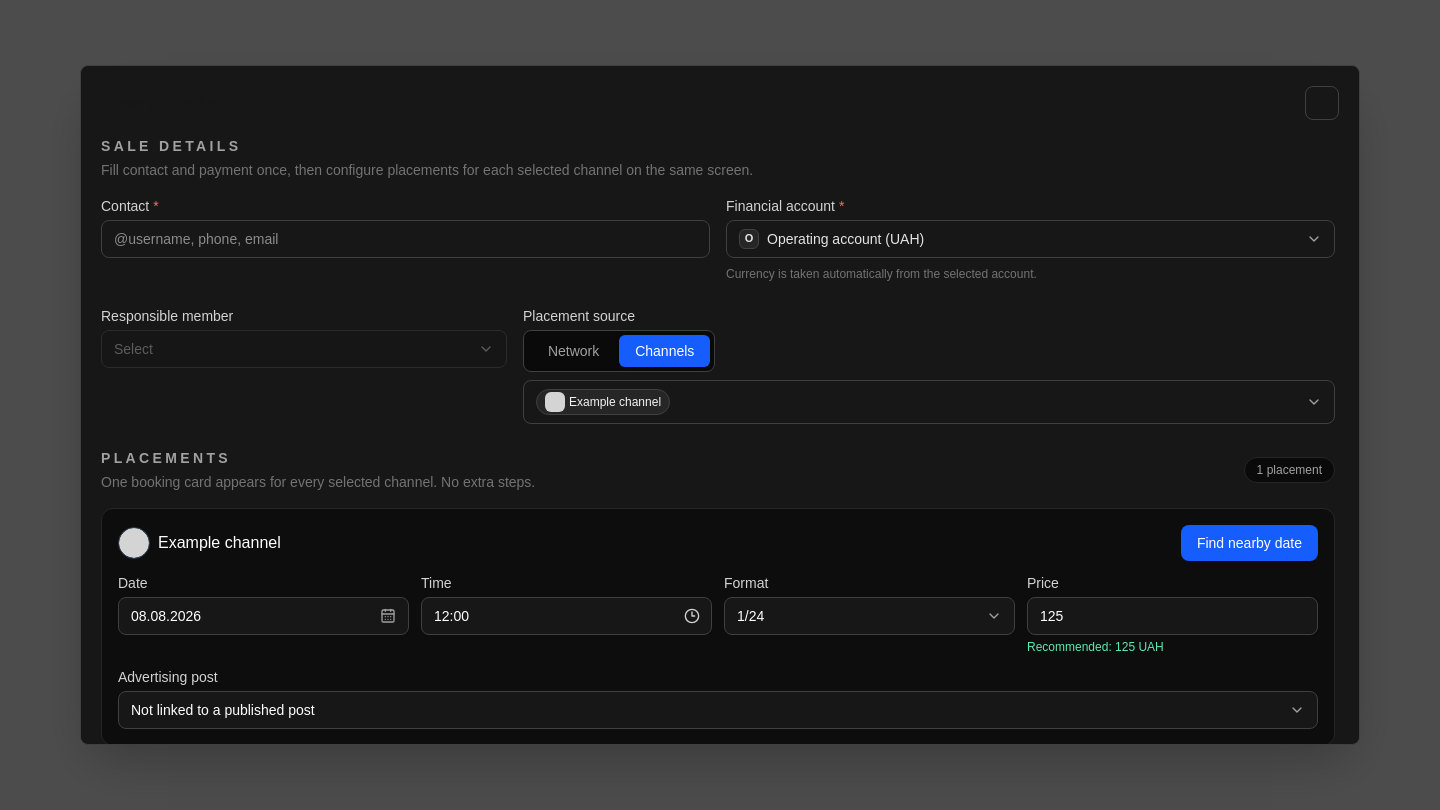
Test: AdSaleModal › uses one toggled field for network or channel selection
Expected: the button "Example channel" is shown, [523,380,1335,424]
Click the button "Network" at (574,351), box [528,335,619,367]
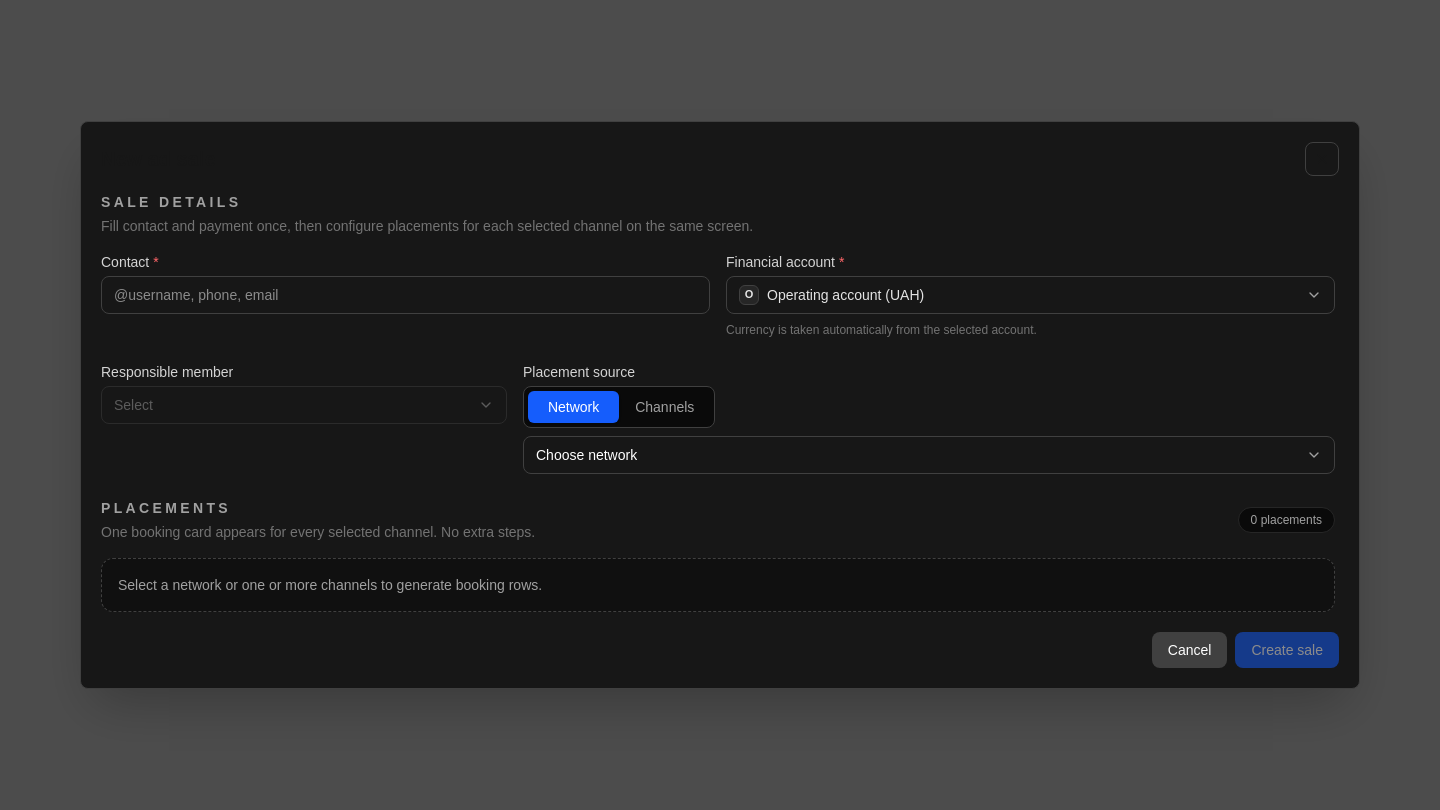
Result: the button "Choose network" is shown at [523,436,1335,474]
Result: the button "Example channel" is gone
